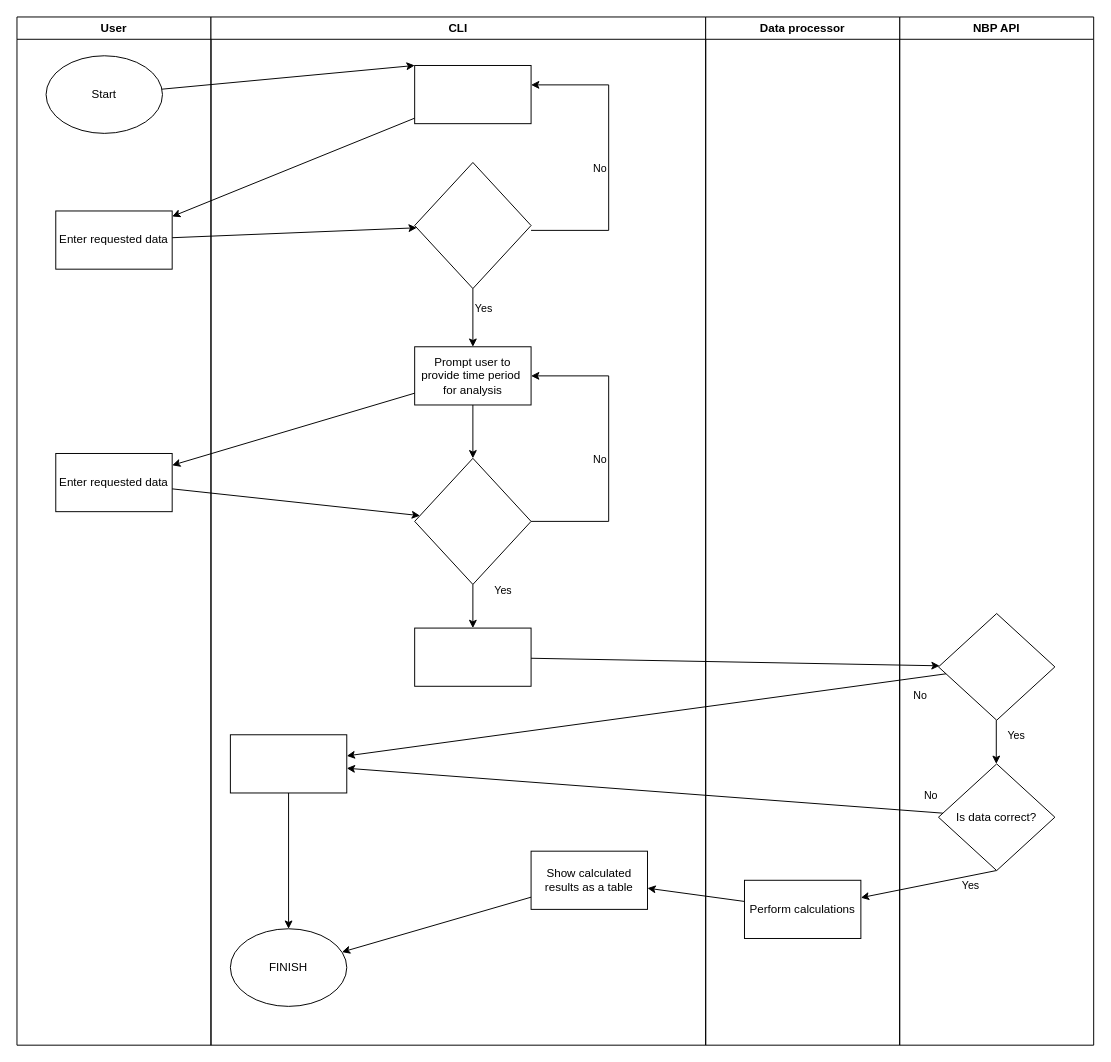
This 1111x1062 diagram has some shape labels left out. The centre of each missing label's shape, as x and y in pixels:
"Currency valid?" belongs at (x=472, y=225).
"Is available?" belongs at (x=996, y=666).
"Period valid?" belongs at (x=472, y=520).
"Prompt user to provide currency for analysis" belongs at (x=472, y=94).
"Send request" belongs at (x=472, y=656).
"Show error message" belongs at (x=288, y=763).
